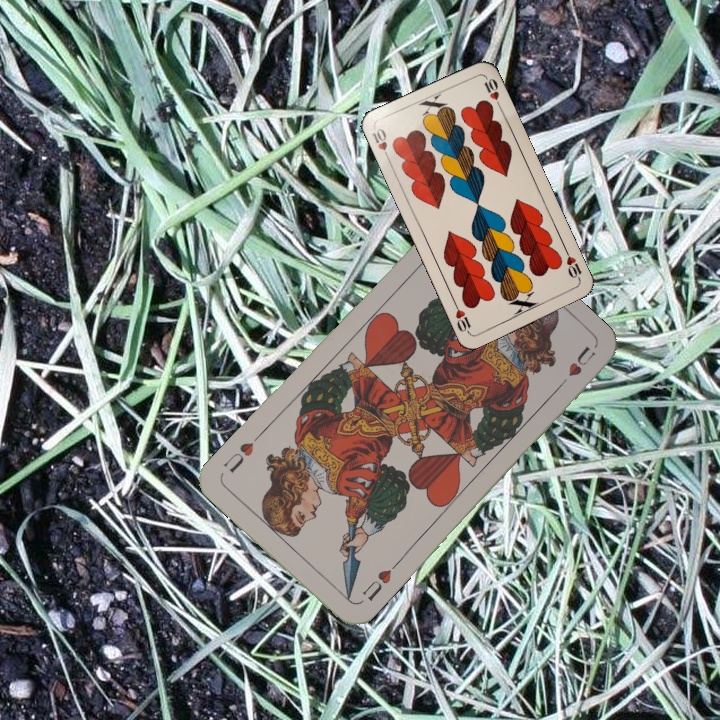H10: (368, 124, 393, 163), (561, 245, 584, 284)
HU: (358, 565, 394, 604)
